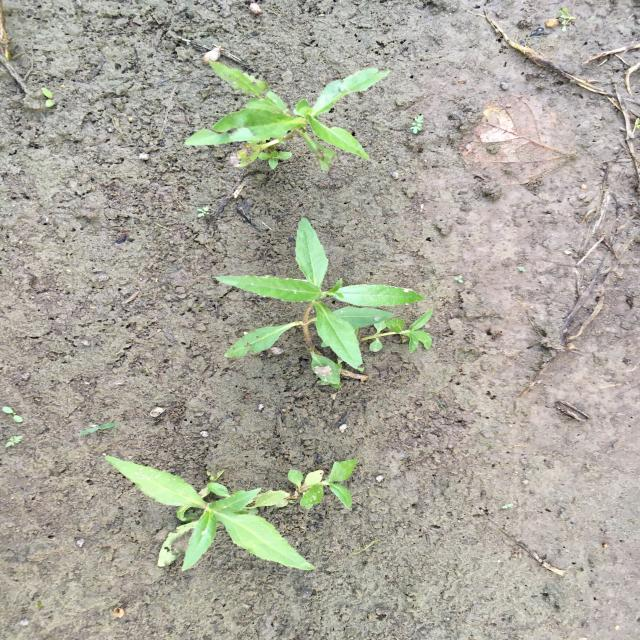Eclipta: (212, 217, 436, 390), (103, 455, 359, 573), (183, 59, 390, 173)
